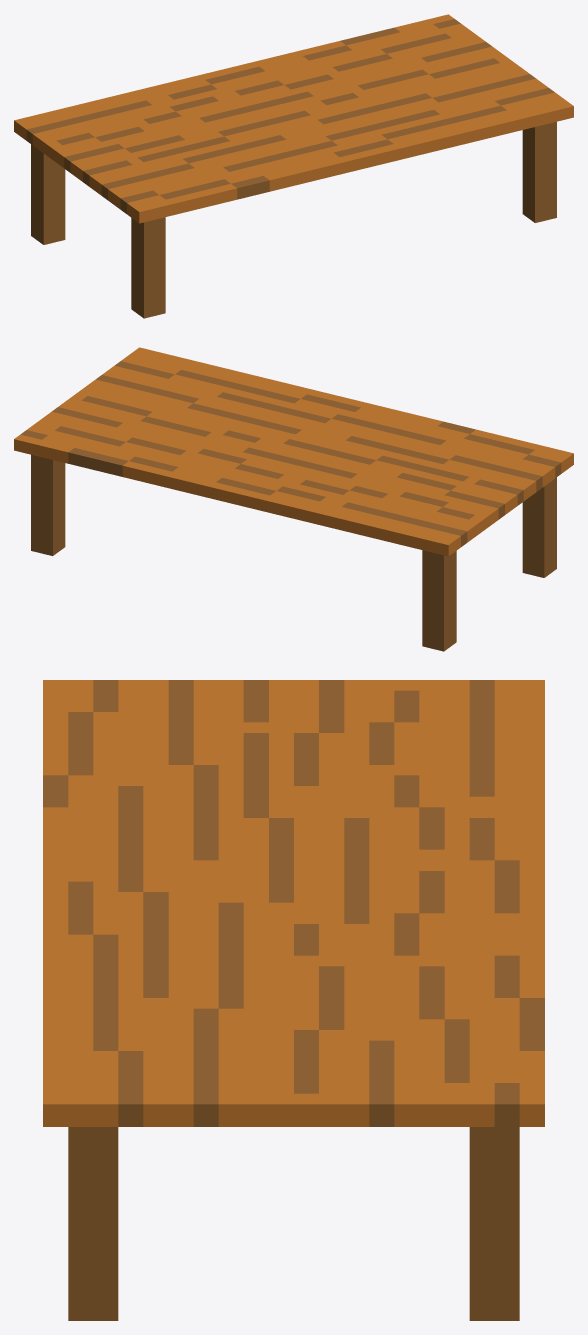
Rendered from env_table_1x2.obj.
The picture shows the model from 3 angles, top to bottom: view 1: azimuth 30°, elevation 25°; view 2: azimuth 150°, elevation 25°; view 3: azimuth 270°, elevation 25°; orthographic projection. The views are drawn at different scales.
Parts seen in each view (by area): view 1: env_table_1x2; view 2: env_table_1x2; view 3: env_table_1x2.
Part boxes in pixels (x1,y1,x2,y2): env_table_1x2: (14, 14, 573, 318); env_table_1x2: (14, 347, 573, 651); env_table_1x2: (43, 680, 544, 1320).
Bounding box in the file's own units: 40 × 10 × 20.
1 material, 1 textured.
